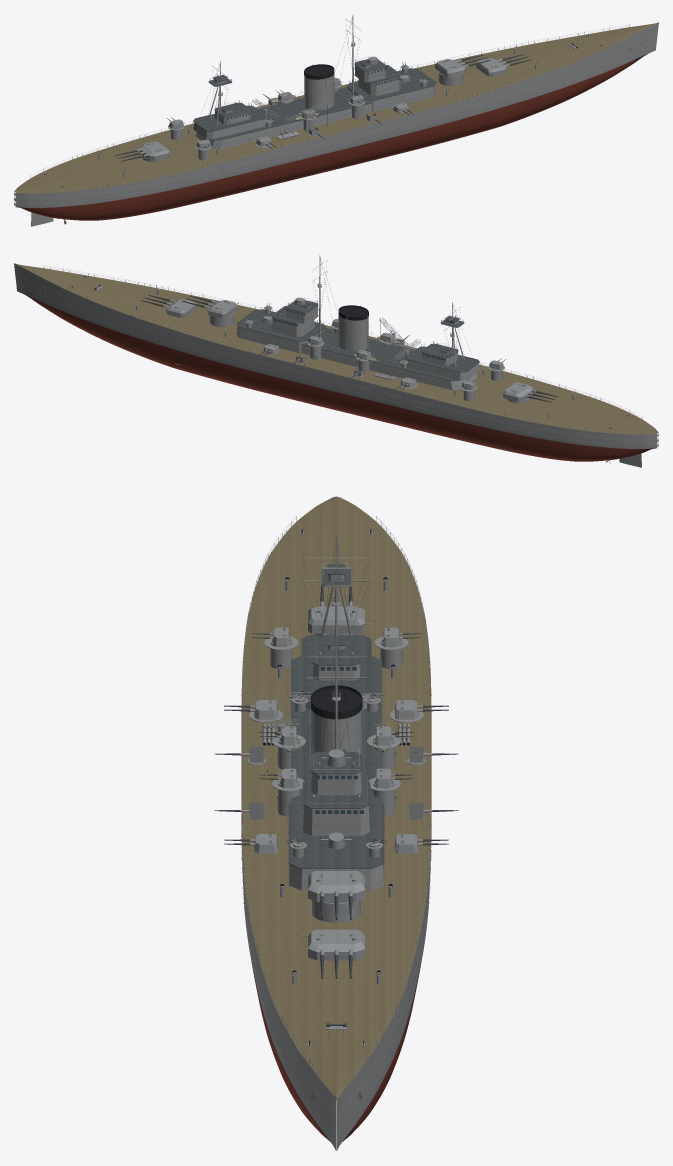
File: demo-scharnhorst.glb
The picture shows the model from 3 angles, top to bottom: view 1: azimuth 30°, elevation 25°; view 2: azimuth 150°, elevation 25°; view 3: azimuth 270°, elevation 25°; orthographic projection. The views are drawn at different scales.
Visible parts, largest first — view 1: Scharnhorst — Atlantic-bow battle fit; view 2: Scharnhorst — Atlantic-bow battle fit; view 3: Scharnhorst — Atlantic-bow battle fit.
Boxes of the visible parts, x1=… form: Scharnhorst — Atlantic-bow battle fit: x1=14, y1=14, x2=658, y2=226; Scharnhorst — Atlantic-bow battle fit: x1=14, y1=255, x2=658, y2=467; Scharnhorst — Atlantic-bow battle fit: x1=214, y1=496, x2=458, y2=1150.
Size of the model in its own units: 235 by 47.4 by 38.56.
Materials: 9 (8 with a texture image).
